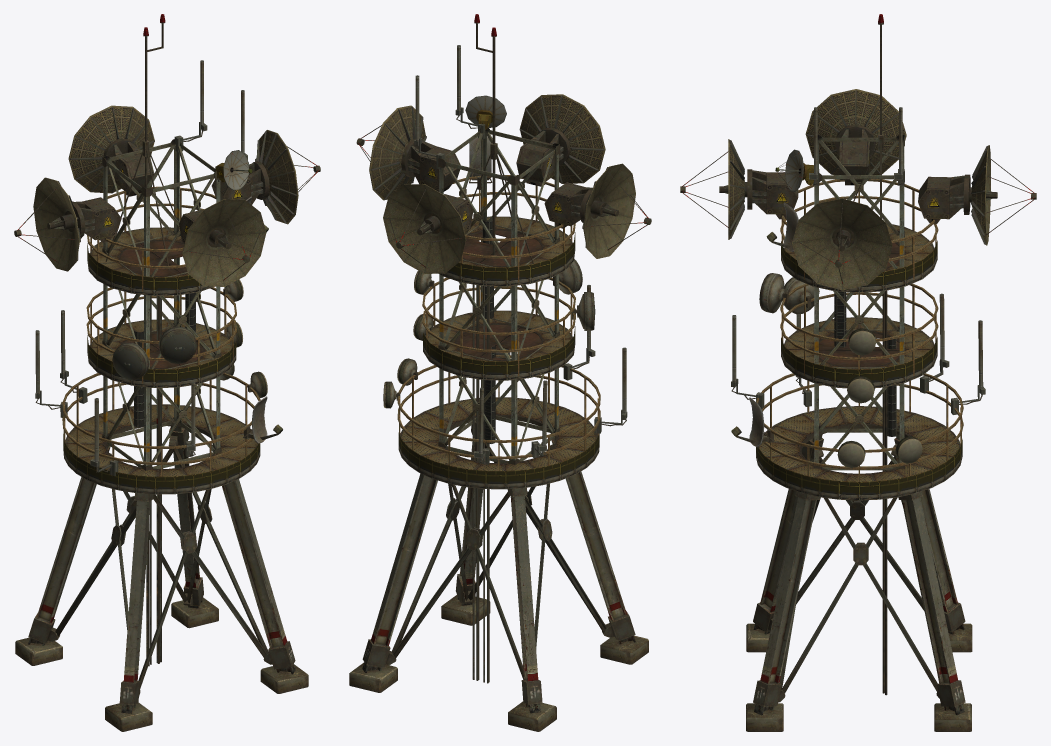
Rendered from antenna_0001.gltf.
3 views of the same model, side by side, from view 1: azimuth 30°, elevation 25°; view 2: azimuth 150°, elevation 25°; view 3: azimuth 270°, elevation 25° (orthographic). The views are drawn at different scales.
Visible parts, largest first — view 1: Antenna:SM_ENV_ZNT_STRUCT_Antenna_B; view 2: Antenna:SM_ENV_ZNT_STRUCT_Antenna_B; view 3: Antenna:SM_ENV_ZNT_STRUCT_Antenna_B.
Boxes of the visible parts, x1,y1,x2,y2 form: Antenna:SM_ENV_ZNT_STRUCT_Antenna_B: (14,14,320,731); Antenna:SM_ENV_ZNT_STRUCT_Antenna_B: (349,14,651,731); Antenna:SM_ENV_ZNT_STRUCT_Antenna_B: (680,14,1036,731).
Bounding box in the file's own units: 20.38 × 42.88 × 20.38.
